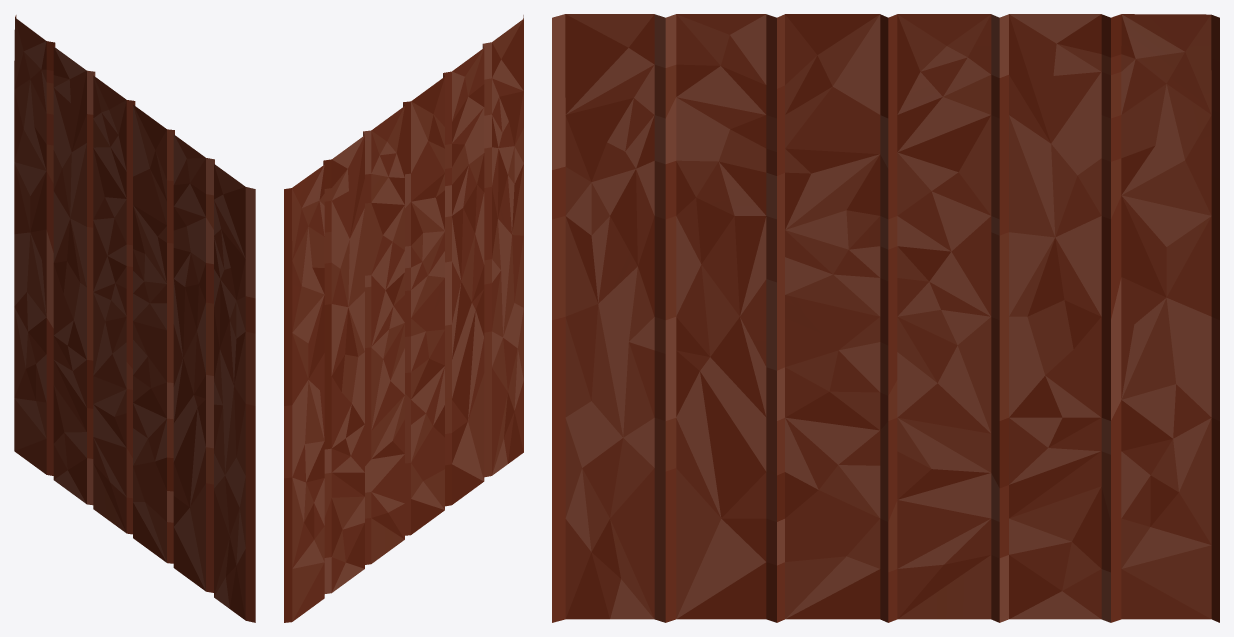
File: Wall_A.fbx
The picture shows the model from 3 angles, left to right: view 1: azimuth 30°, elevation 25°; view 2: azimuth 150°, elevation 25°; view 3: azimuth 270°, elevation 25°; orthographic projection. The views are drawn at different scales.
Visible parts, largest first — view 1: polySurface3669; view 2: polySurface3669; view 3: polySurface3669.
Part boxes in pixels (x1,y1,x2,y2): polySurface3669: [14, 15, 255, 622]; polySurface3669: [284, 15, 523, 622]; polySurface3669: [552, 14, 1219, 622].
Bounding box in the file's own units: 5.05 × 400 × 400.
